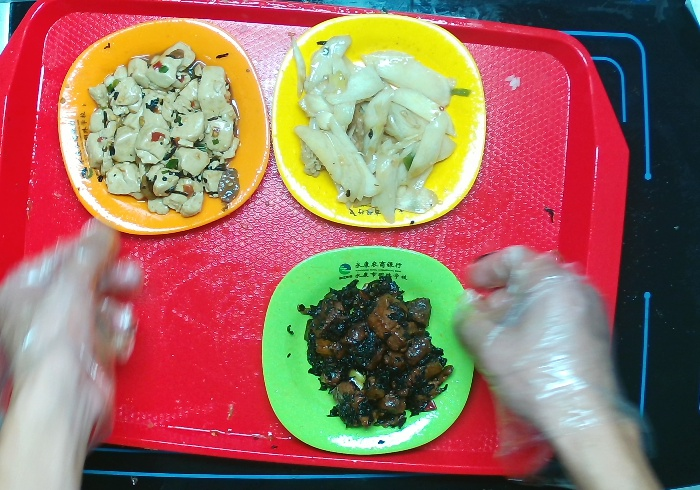YKMZ-Huang_Se_Fang_Die: (261, 7, 494, 233)
YKMZ-Ju_Se_Fang_Die: (46, 13, 279, 239)
YKMZ-Lv_Se_Fang_Die: (249, 240, 482, 467)
